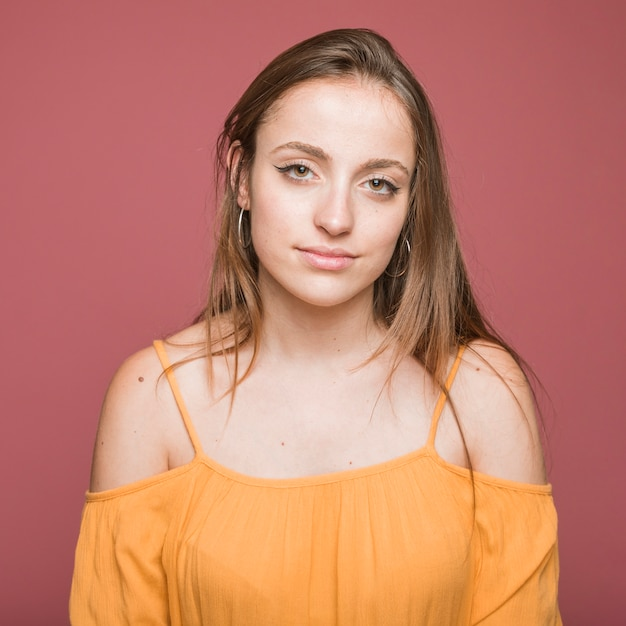young: (214, 31, 454, 320)
